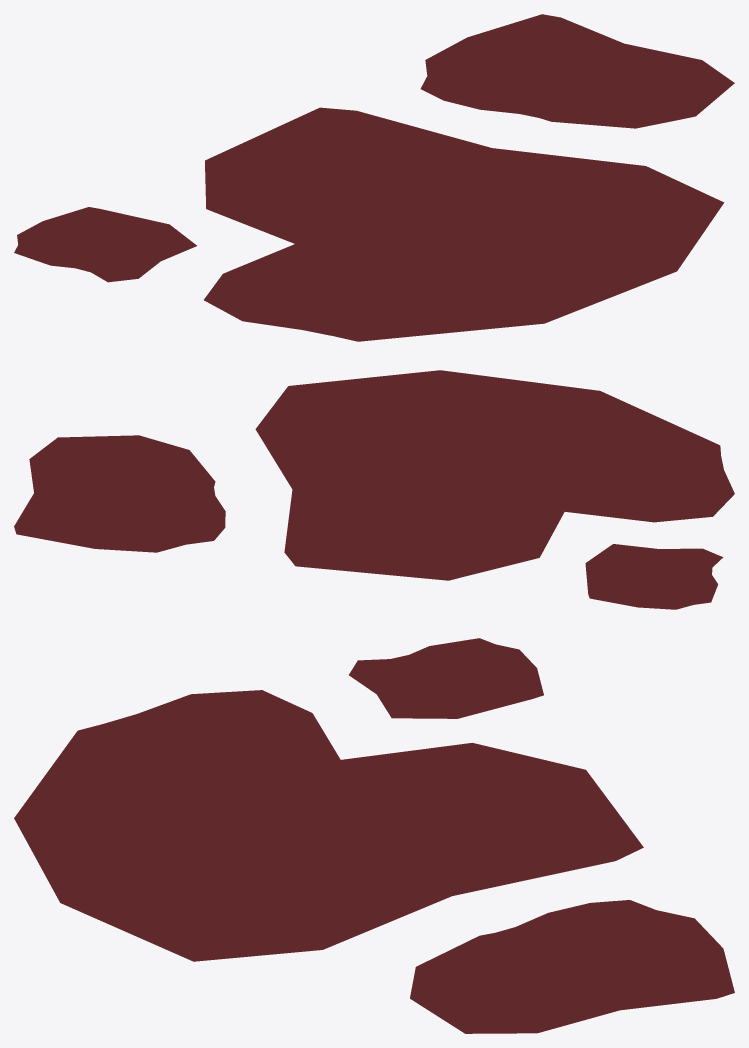
File: Blood_2.glb
3 views of the same model, one above another, from view 1: azimuth 30°, elevation 25°; view 2: azimuth 150°, elevation 25°; view 3: azimuth 270°, elevation 25° (orthographic). The views are drawn at different scales.
Visible parts, largest first — view 1: Blood_2; view 2: Blood_2; view 3: Blood_2.
Part boxes in pixels (x1,y1,x2,y2): Blood_2: (14,14,734,341); Blood_2: (14,370,734,609); Blood_2: (14,638,734,1033).
Size of the model in its own units: 1.71 by 4.97e-07 by 1.32.
Materials: 1 (1 with a texture image).
